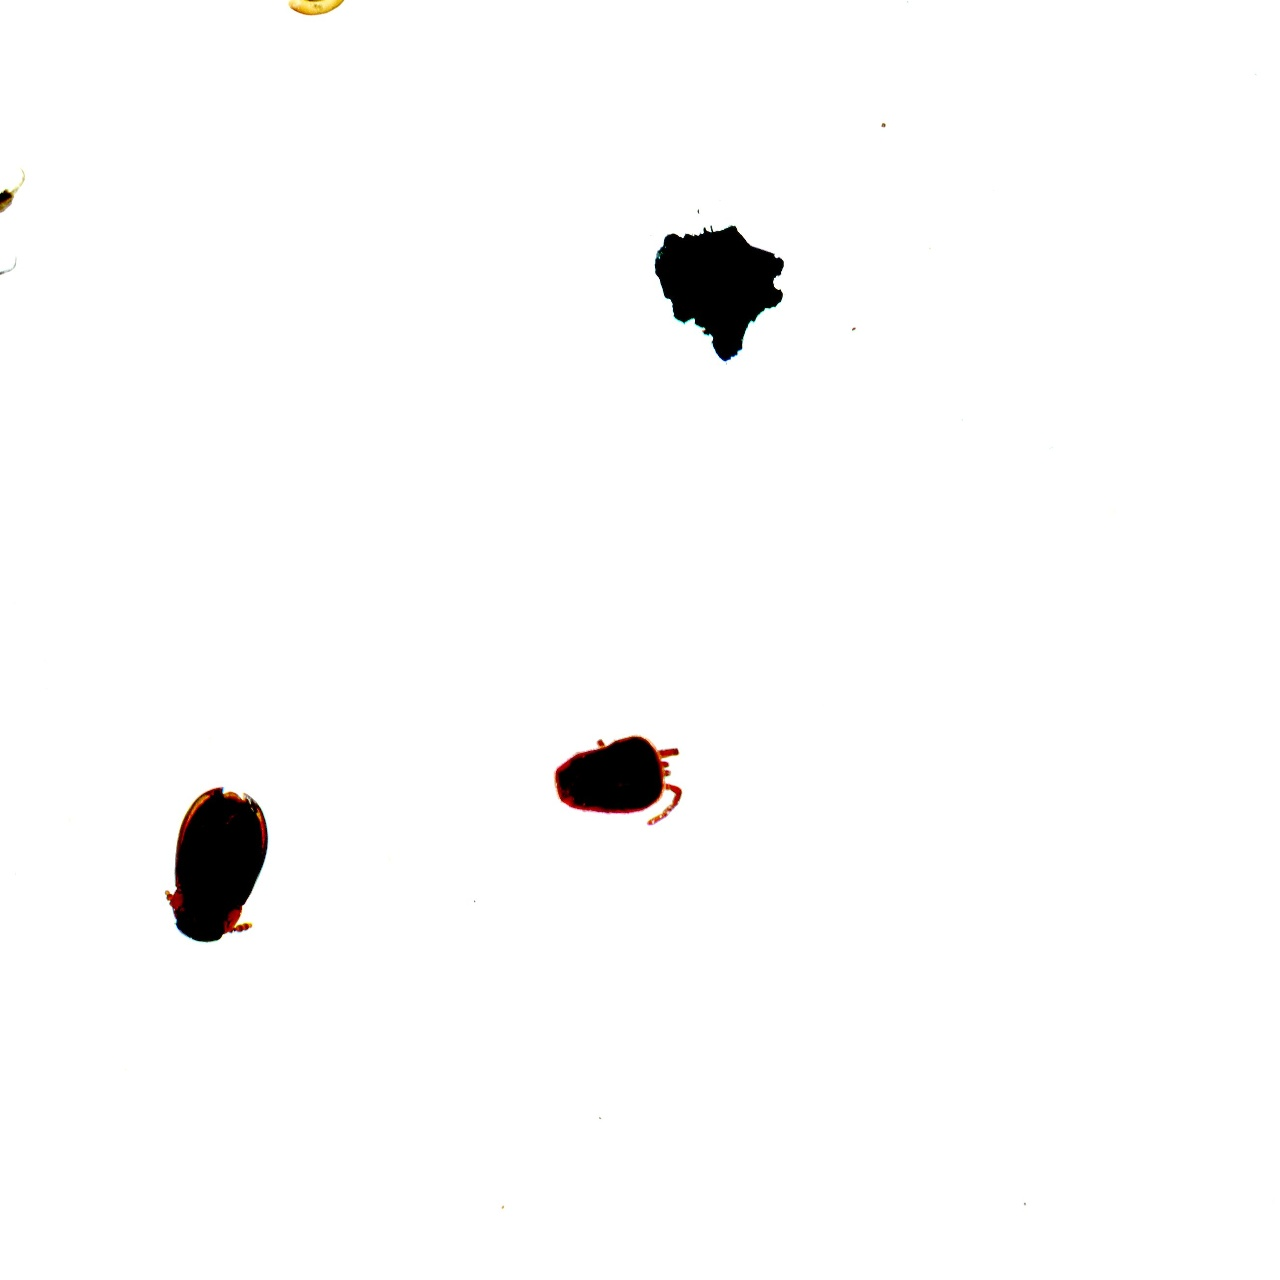arthropod: (158, 779, 276, 948), (544, 730, 687, 829), (0, 159, 28, 254), (280, 0, 357, 22), (0, 253, 23, 298)
